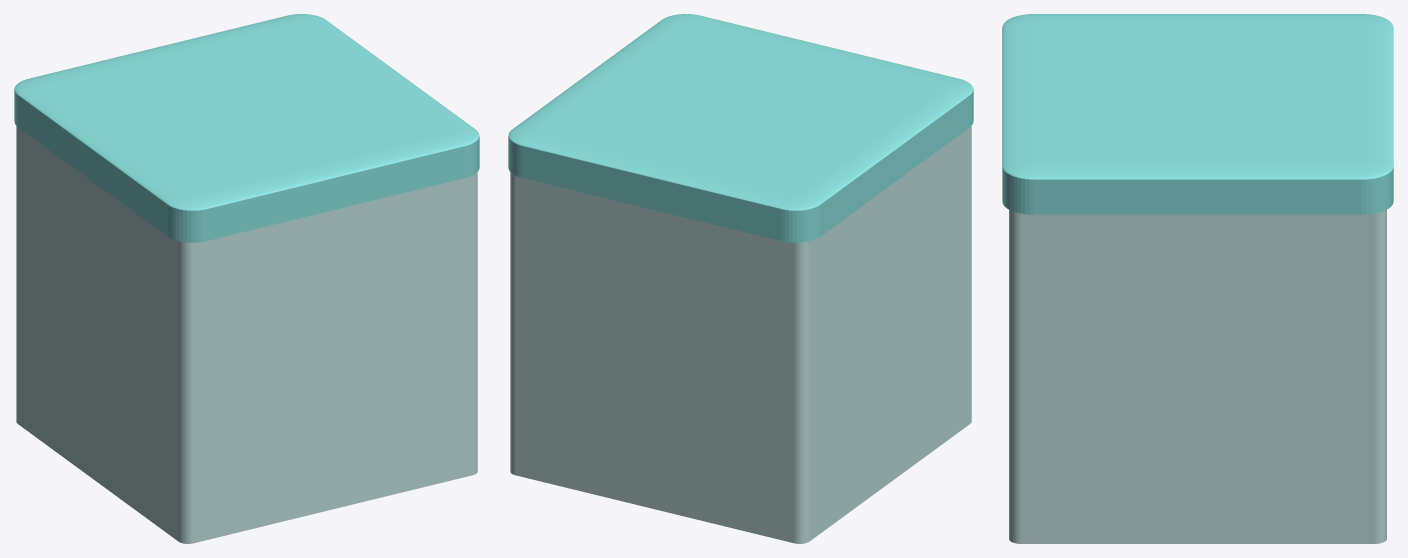
File: dolap2.fbx
3 renders of one model, left to right at view 1: azimuth 30°, elevation 25°; view 2: azimuth 150°, elevation 25°; view 3: azimuth 270°, elevation 25°, orthographic. The views are drawn at different scales.
Parts seen in each view (by area): view 1: dolap, tepe; view 2: dolap, tepe; view 3: dolap, tepe.
Part boxes in pixels (left/top/right/bottom): dolap: left=16, top=126, right=477, bottom=543; tepe: left=14, top=14, right=479, bottom=242; dolap: left=510, top=126, right=971, bottom=543; tepe: left=508, top=14, right=973, bottom=242; dolap: left=1009, top=210, right=1386, bottom=543; tepe: left=1002, top=14, right=1393, bottom=214.
Size of the model in its own units: 37.48 by 39.14 by 37.48.
